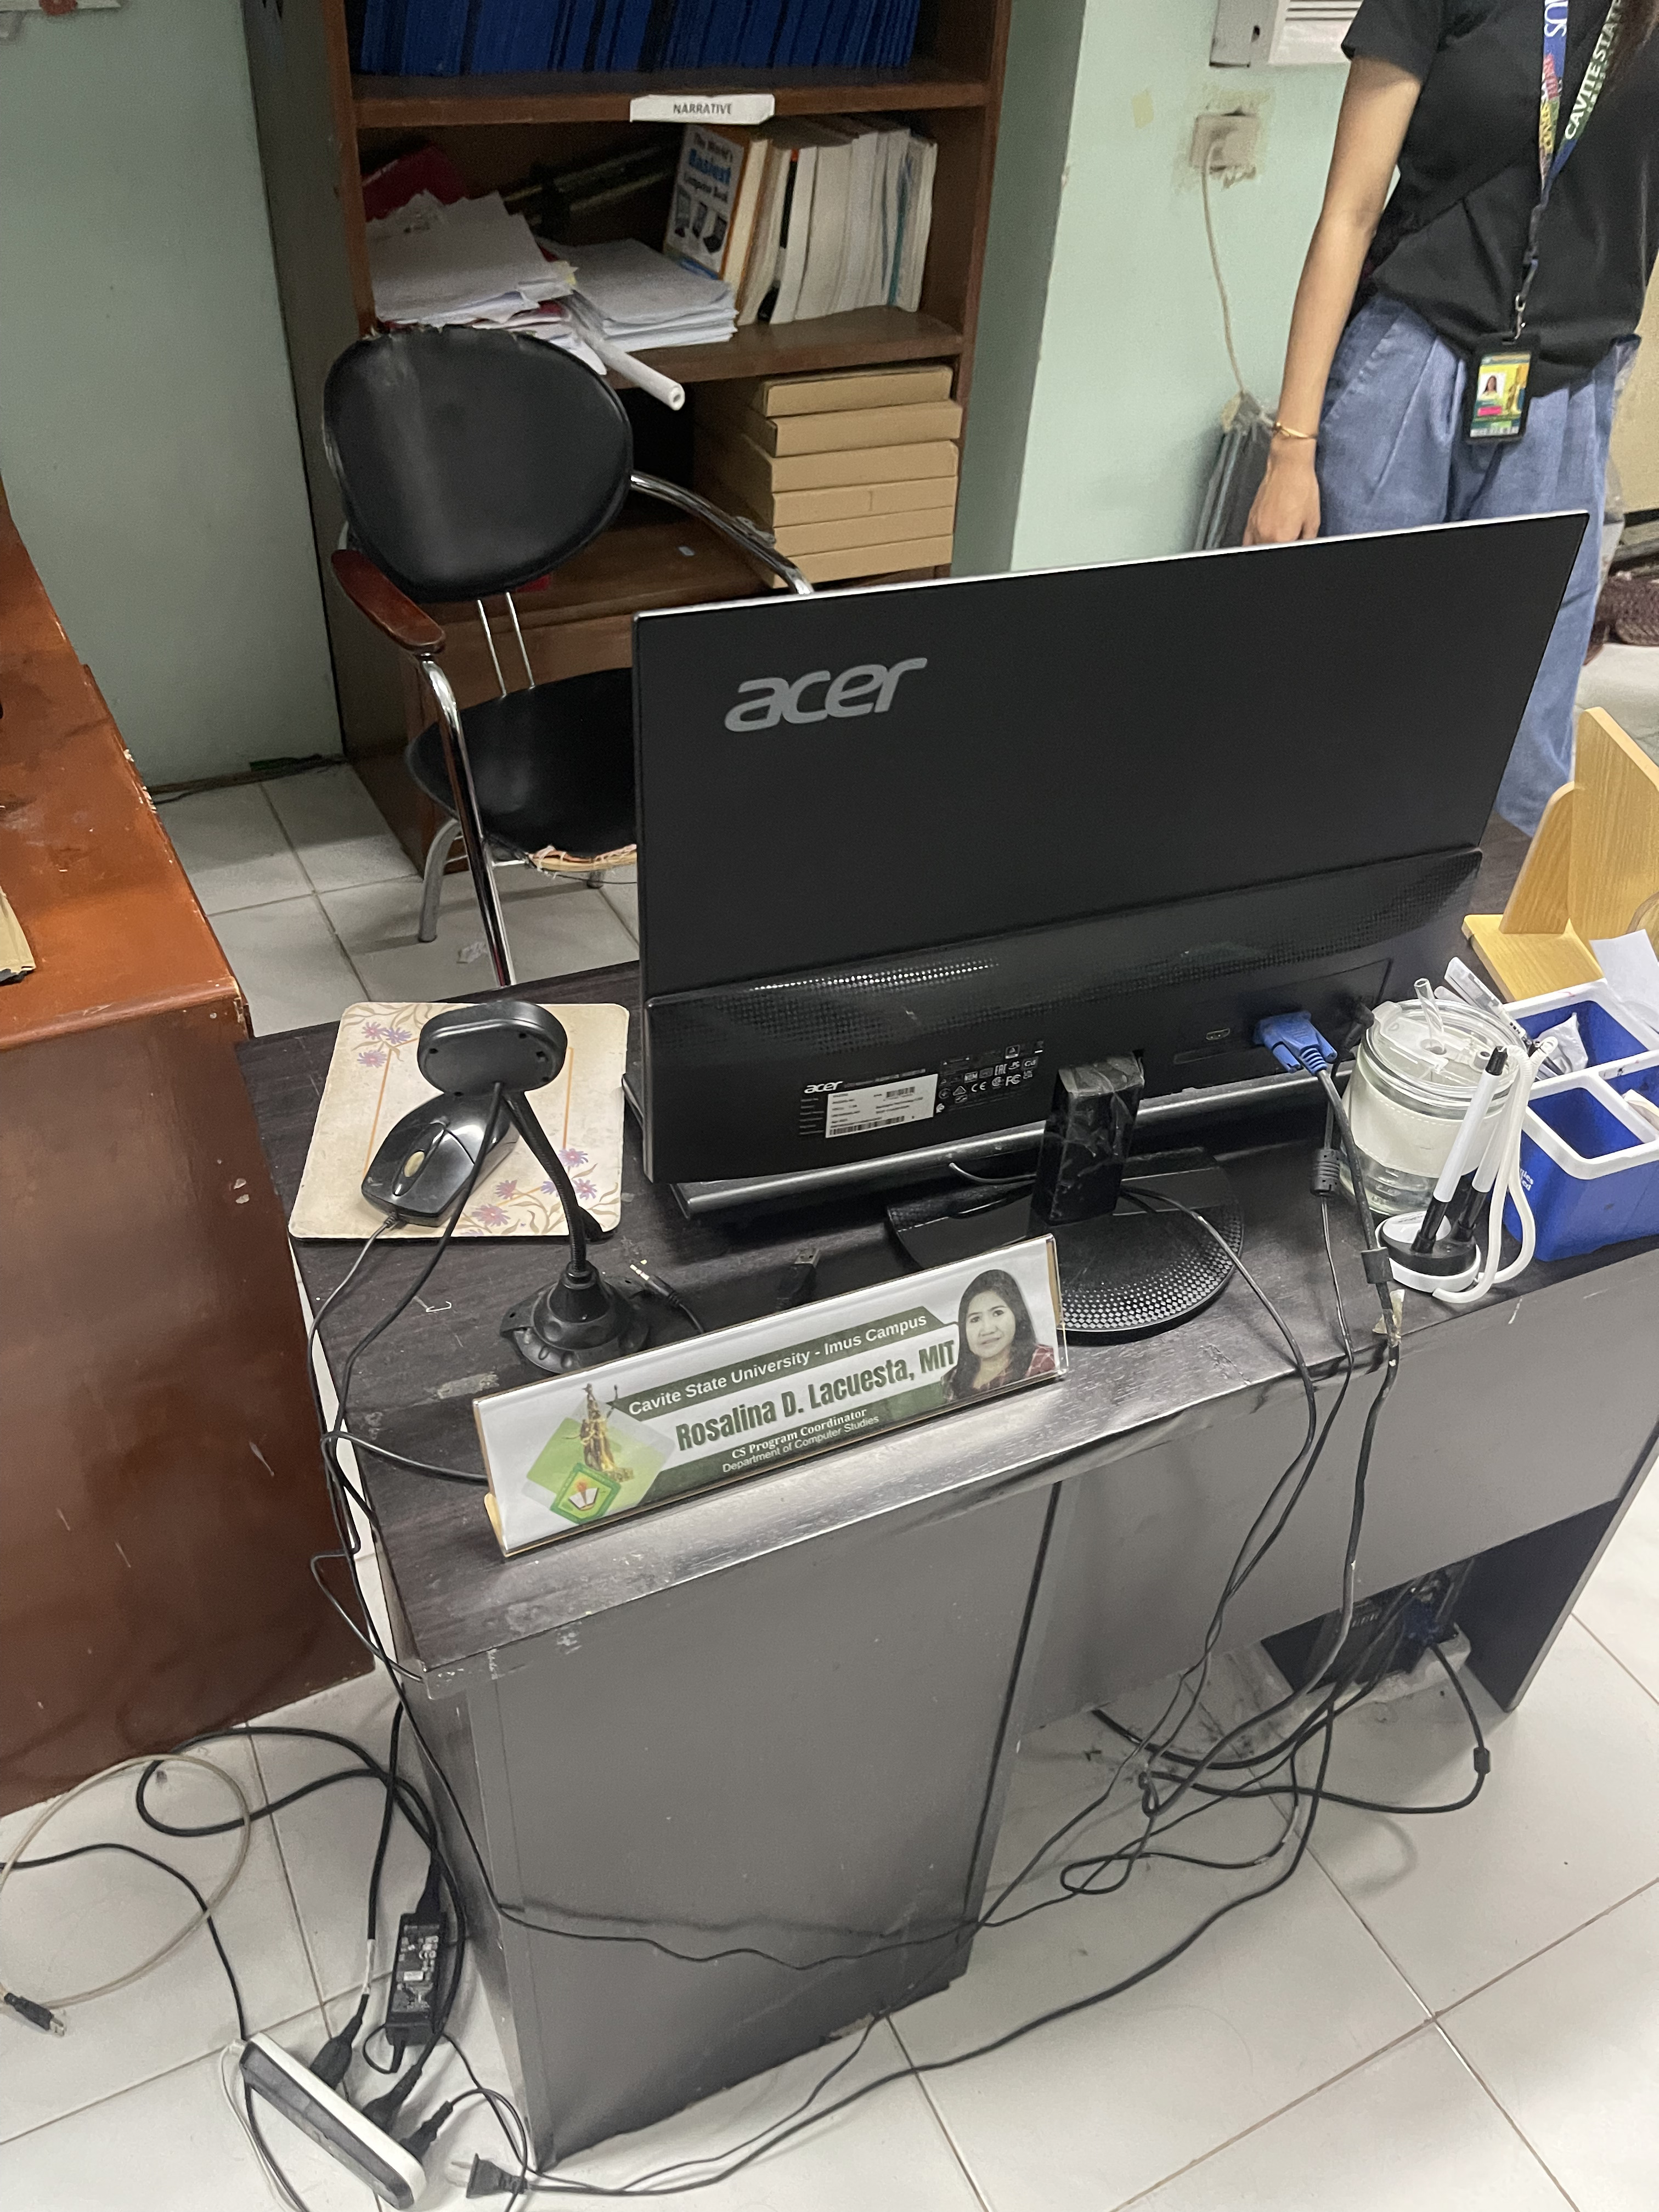table1: (195, 988, 1659, 2177)
